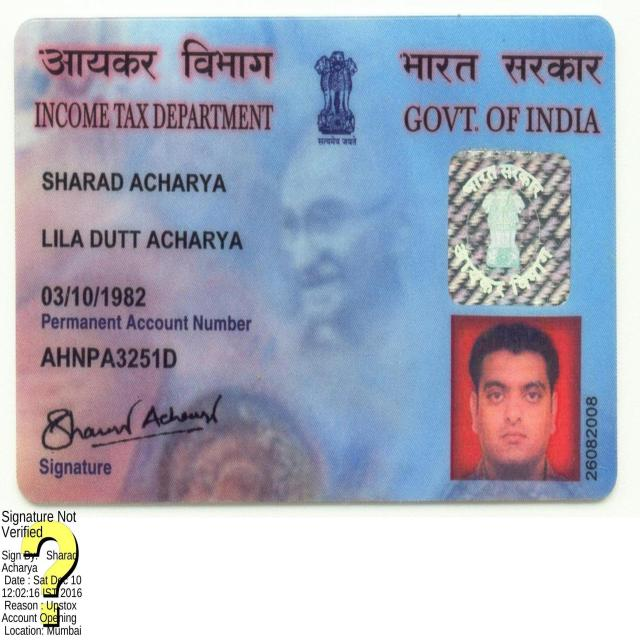pan_card: (20, 25, 612, 499)
